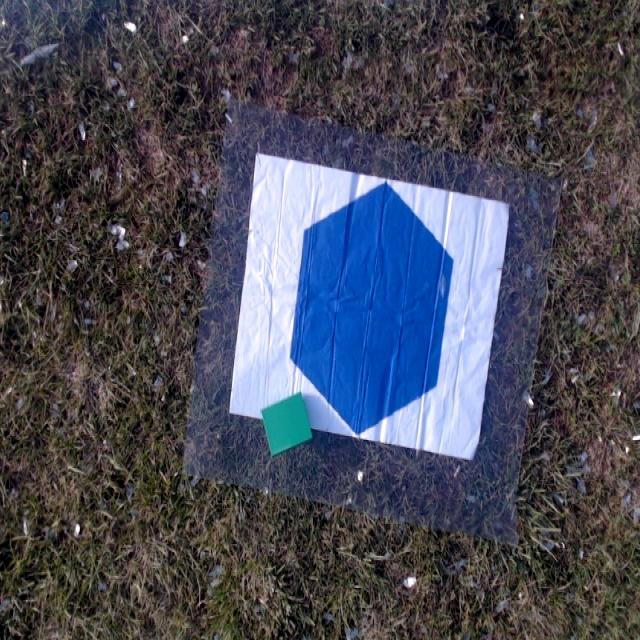blue_hexagon: (289, 180, 454, 436)
